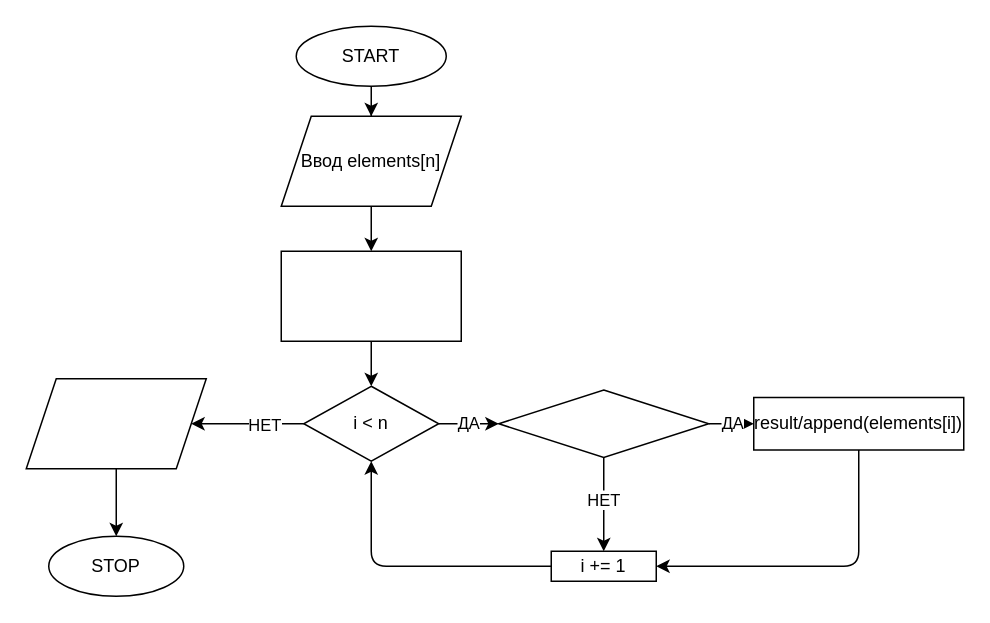
The diagram is 990 pixels wide and 623 high, and some of its shapes have lost their labels. Each missing label, with the box of its shape:
i = 0 result = []: (280, 250, 461, 341)
len(elements[i]) <= 3: (497, 388, 709, 458)
result: (25, 377, 206, 469)
